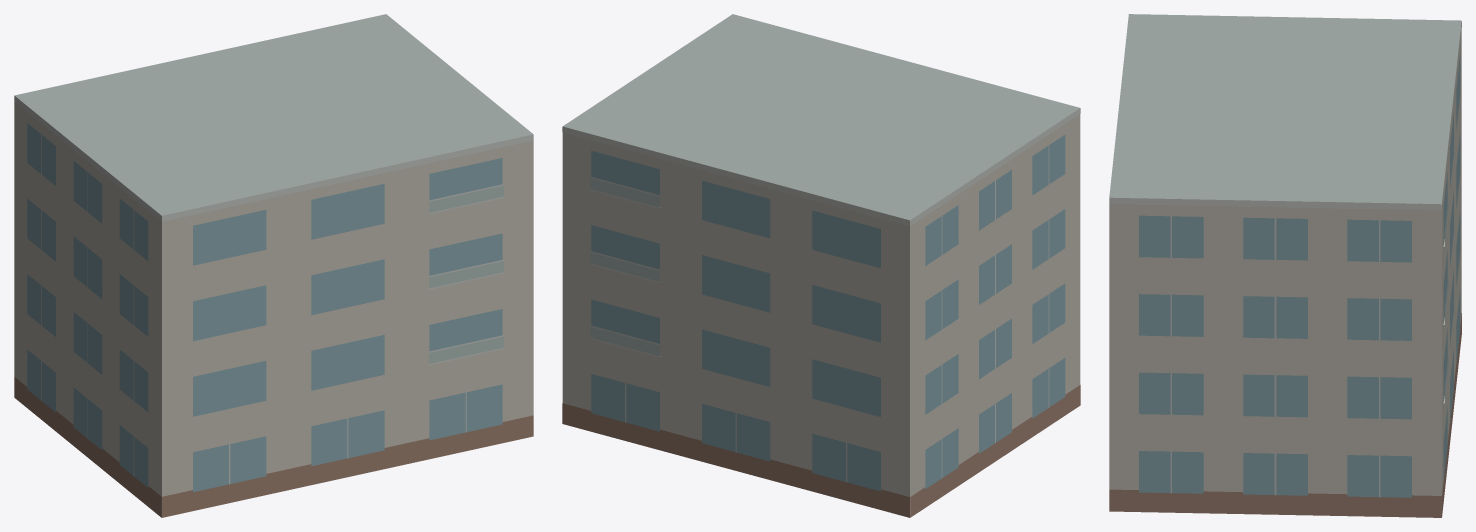
File: residential-c25737e7-e0a8-4be4-81b0-2c5b74d6421f.glb
The picture shows the model from 3 angles, left to right: view 1: azimuth 30°, elevation 25°; view 2: azimuth 150°, elevation 25°; view 3: azimuth 270°, elevation 25°; orthographic projection. The views are drawn at different scales.
Parts seen in each view (by area): view 1: residential-c25737e7-e0a8-4be4-81b0-2c5b74d6421f.tmp; view 2: residential-c25737e7-e0a8-4be4-81b0-2c5b74d6421f.tmp; view 3: residential-c25737e7-e0a8-4be4-81b0-2c5b74d6421f.tmp.
Boxes of the visible parts, x1,y1,x2,y2 form: residential-c25737e7-e0a8-4be4-81b0-2c5b74d6421f.tmp: (14,14,533,517); residential-c25737e7-e0a8-4be4-81b0-2c5b74d6421f.tmp: (562,14,1080,517); residential-c25737e7-e0a8-4be4-81b0-2c5b74d6421f.tmp: (1109,14,1461,517).
Size of the model in its own units: 15.87 by 12.2 by 12.44.
